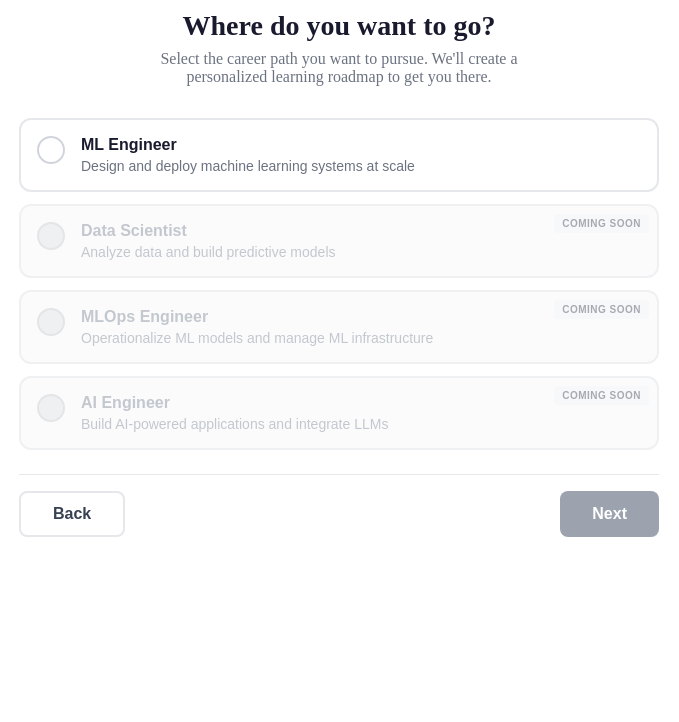
Test: Step2TargetRole › role details display on selection › should show details panel when ML Engineer is selected
What coordinates should you click on to do the following:
click the radio button with test id "target-role-card-ml_engineer"
I would click on:
 (129, 145)
Its box is [19,118,659,192].
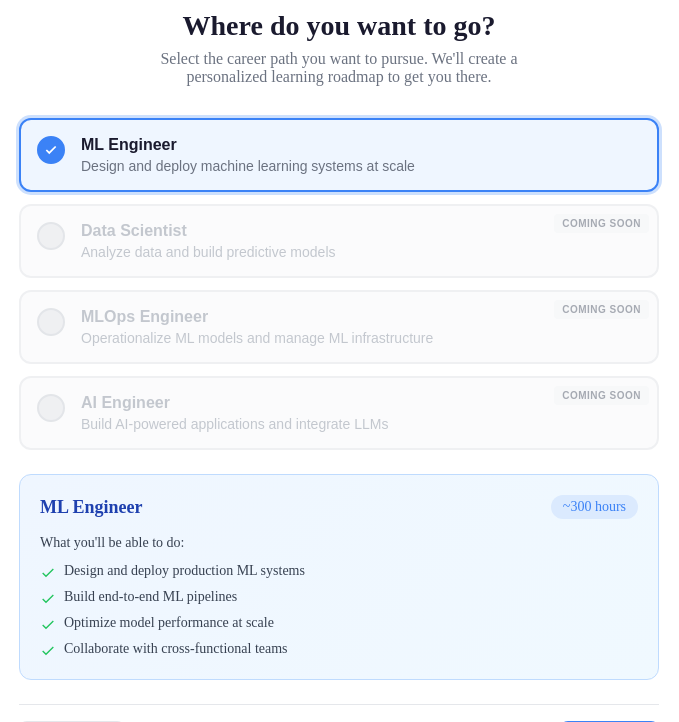
Expected: the element with test id "role-details-panel" is shown, [19,474,659,680]
